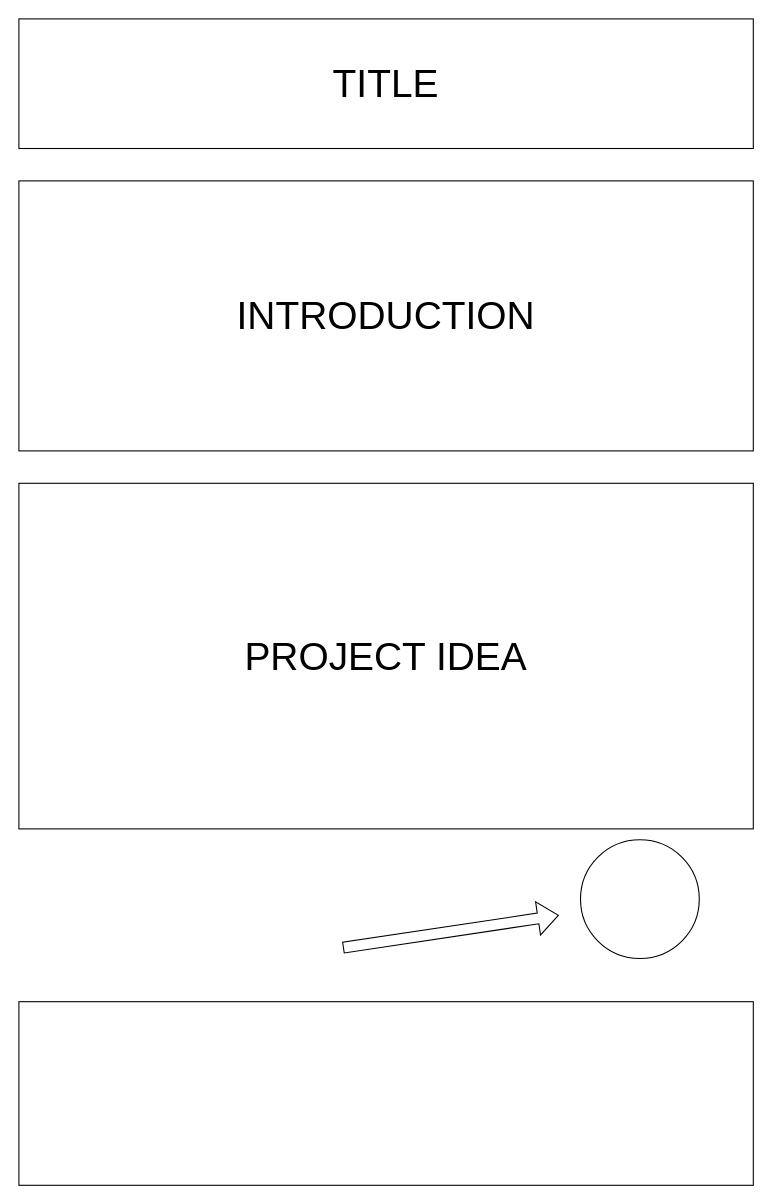
This 772x1204 diagram has some shape labels left out. The shapes that lost their labels are listed below. From the top down, each one's centre as x and y in pixels, then its label:
(x=639, y=899): ENTER BUTTON
(x=385, y=1093): FOOTER
